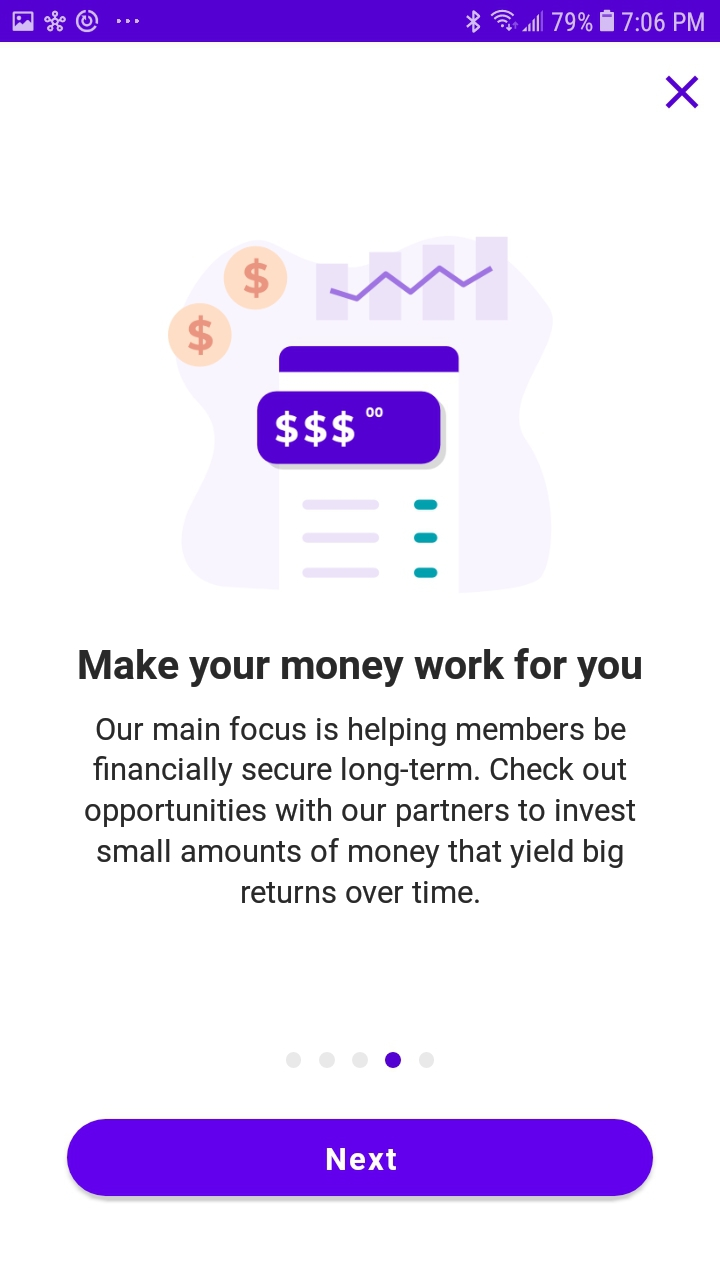Icon: (665, 76, 699, 110)
Image: (168, 237, 553, 594)
PageIndicator: (286, 1051, 435, 1069)
Text: (85, 716, 636, 904), (79, 648, 642, 688)
TextButton: (68, 1118, 654, 1197)
UpperTaskBar: (1, 1, 720, 43)
